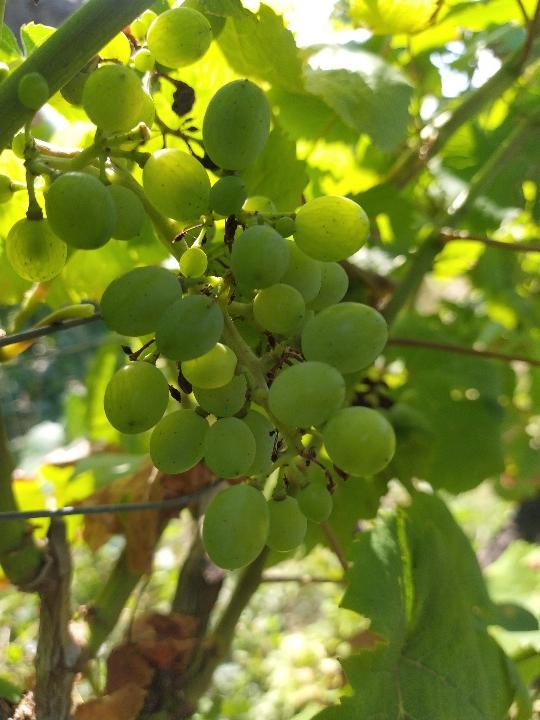grape: (7, 7, 401, 573)
